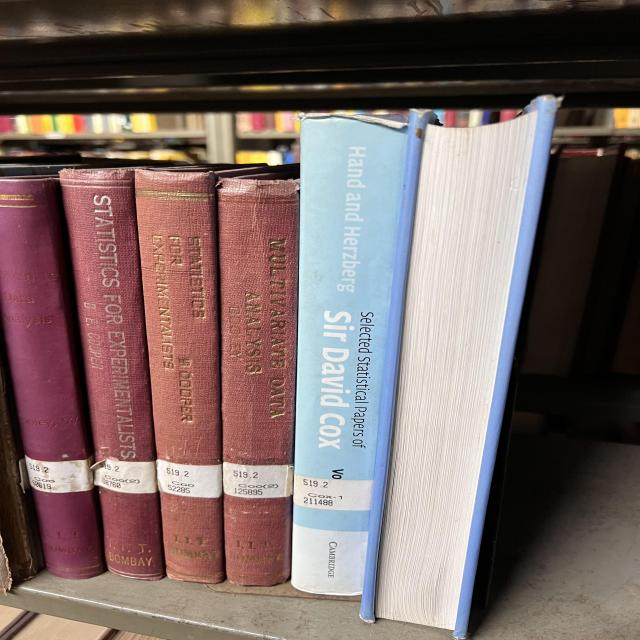Book: (292, 115, 412, 595), (135, 165, 263, 582), (60, 169, 165, 580), (0, 178, 103, 579), (218, 171, 300, 585)
Label: (293, 474, 373, 511), (223, 462, 293, 499), (157, 459, 222, 498), (25, 456, 93, 492), (92, 459, 158, 494)
